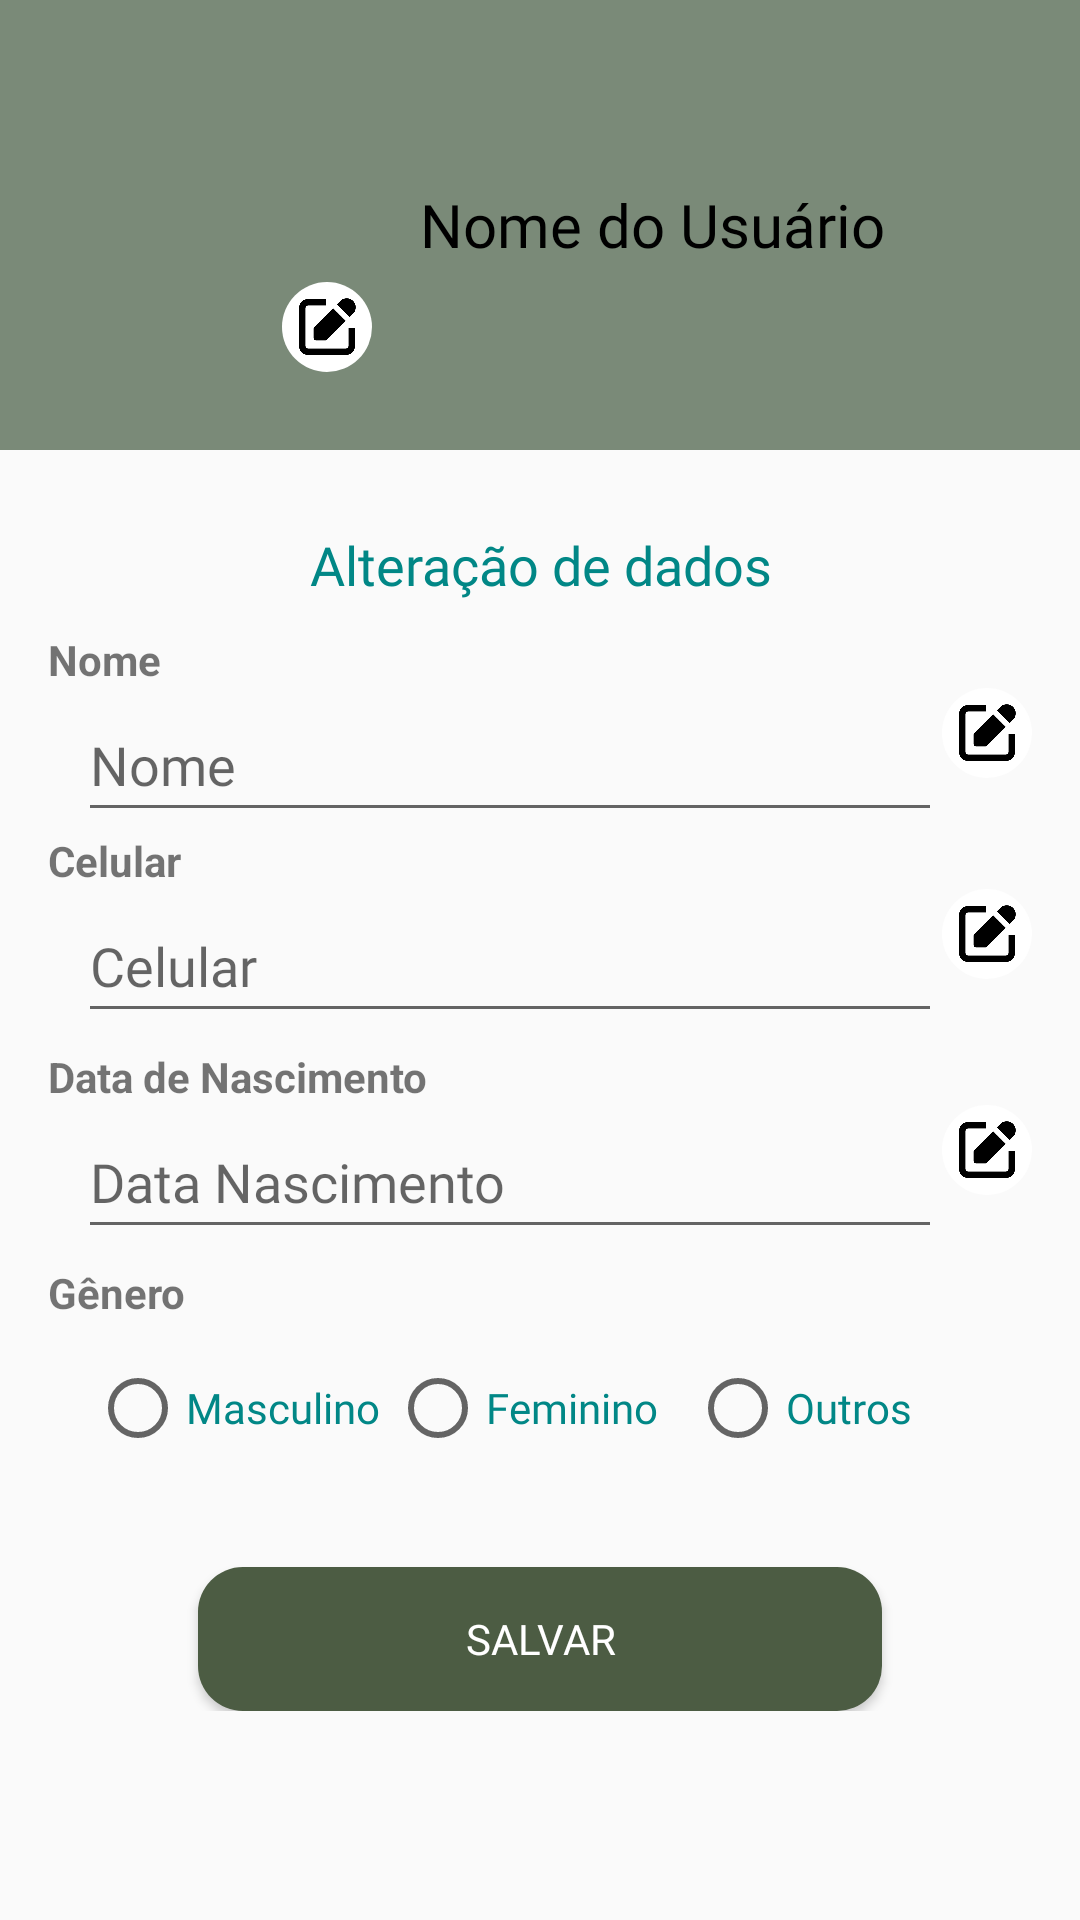

Locate icon controls on the screen. Image size 1080 x 1920, boxes as (x1, y1, x2, y2).
Editar: (959, 704, 1016, 761), (959, 905, 1016, 962), (959, 1121, 1016, 1178)
editarperfil: (282, 282, 372, 372)
